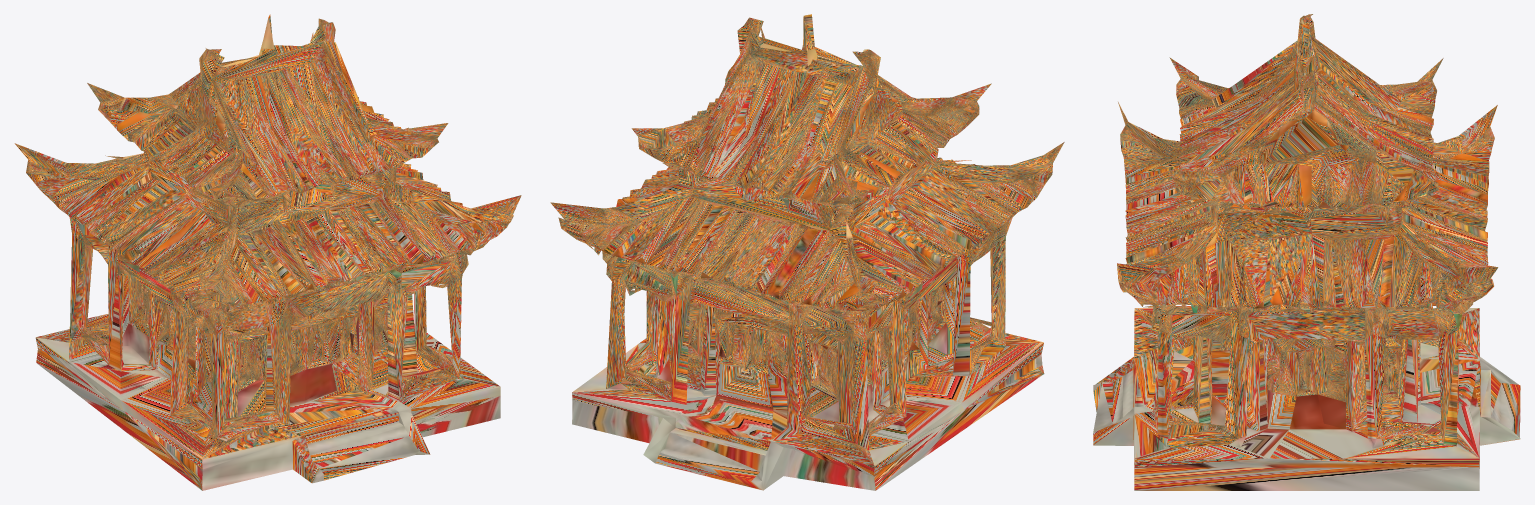
File: lib_pavilion2.lod.glb
3 views of the same model, side by side, from view 1: azimuth 30°, elevation 25°; view 2: azimuth 150°, elevation 25°; view 3: azimuth 270°, elevation 25° (orthographic). The views are drawn at different scales.
Parts seen in each view (by area): view 1: output_unwrapped; view 2: output_unwrapped; view 3: output_unwrapped.
Boxes of the visible parts, <box> form: output_unwrapped: <box>14,14,521,490</box>; output_unwrapped: <box>550,14,1064,490</box>; output_unwrapped: <box>1093,14,1520,490</box>.
Bounding box in the file's own units: 1.79 × 2 × 1.98.
Materials: 1 (1 with a texture image).
